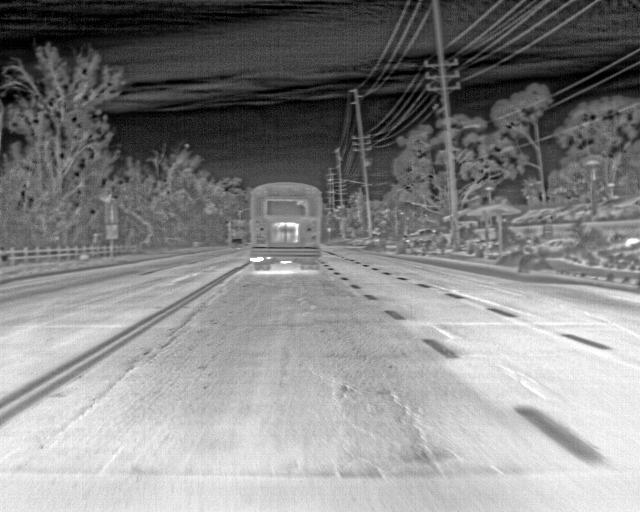car: (229, 237, 242, 249)
